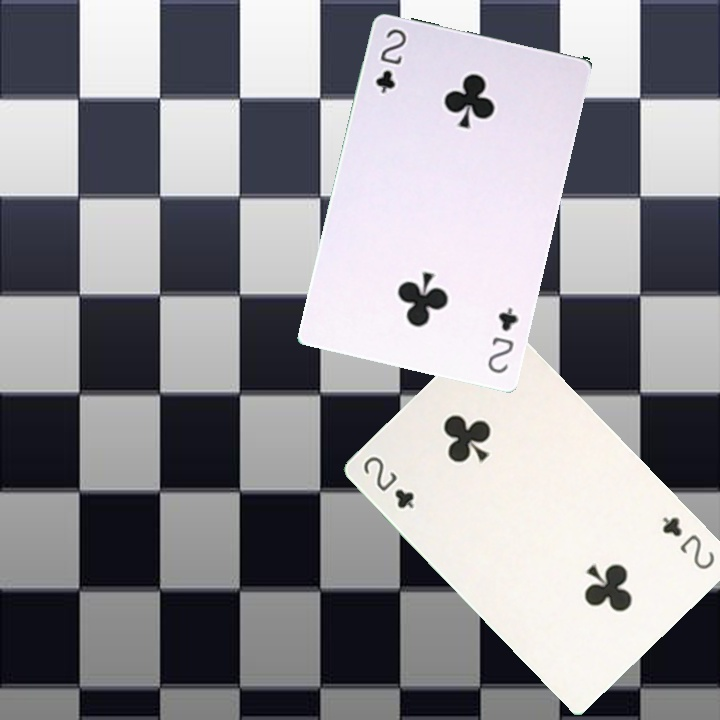2c: (658, 512, 718, 573), (359, 452, 417, 512), (483, 303, 521, 376), (371, 24, 409, 96)
